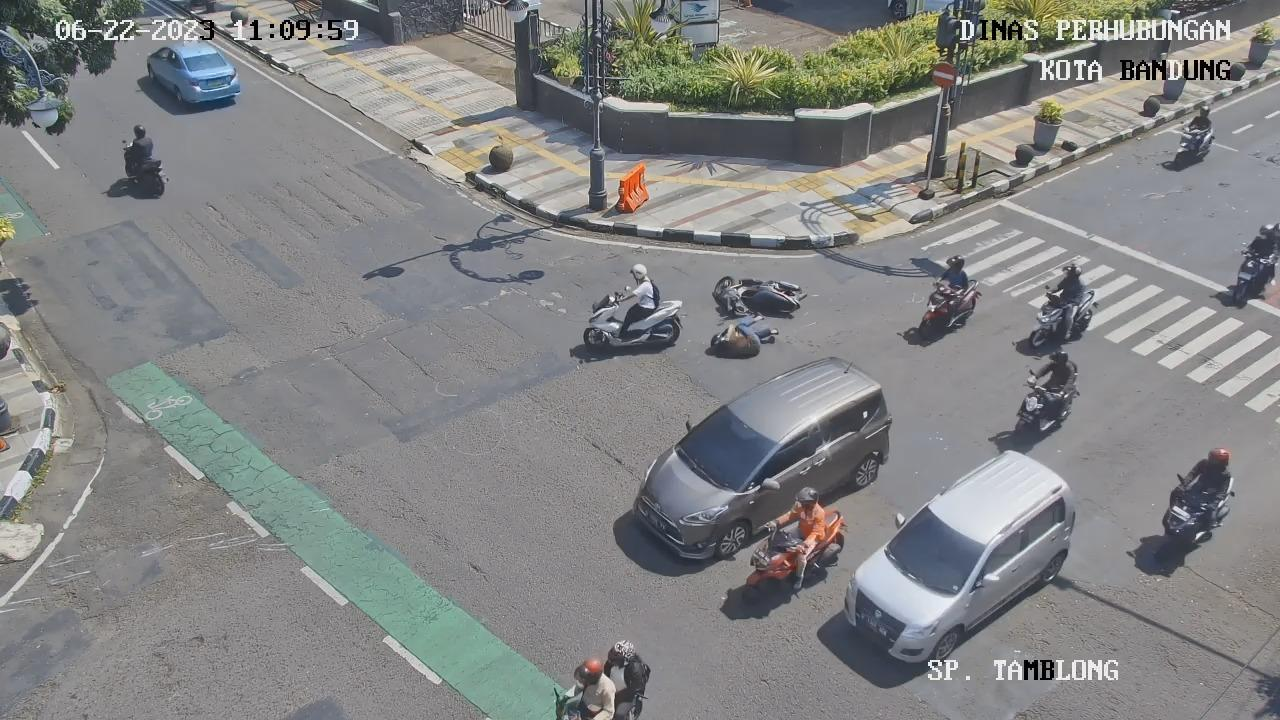accident: (704, 312, 780, 362)
